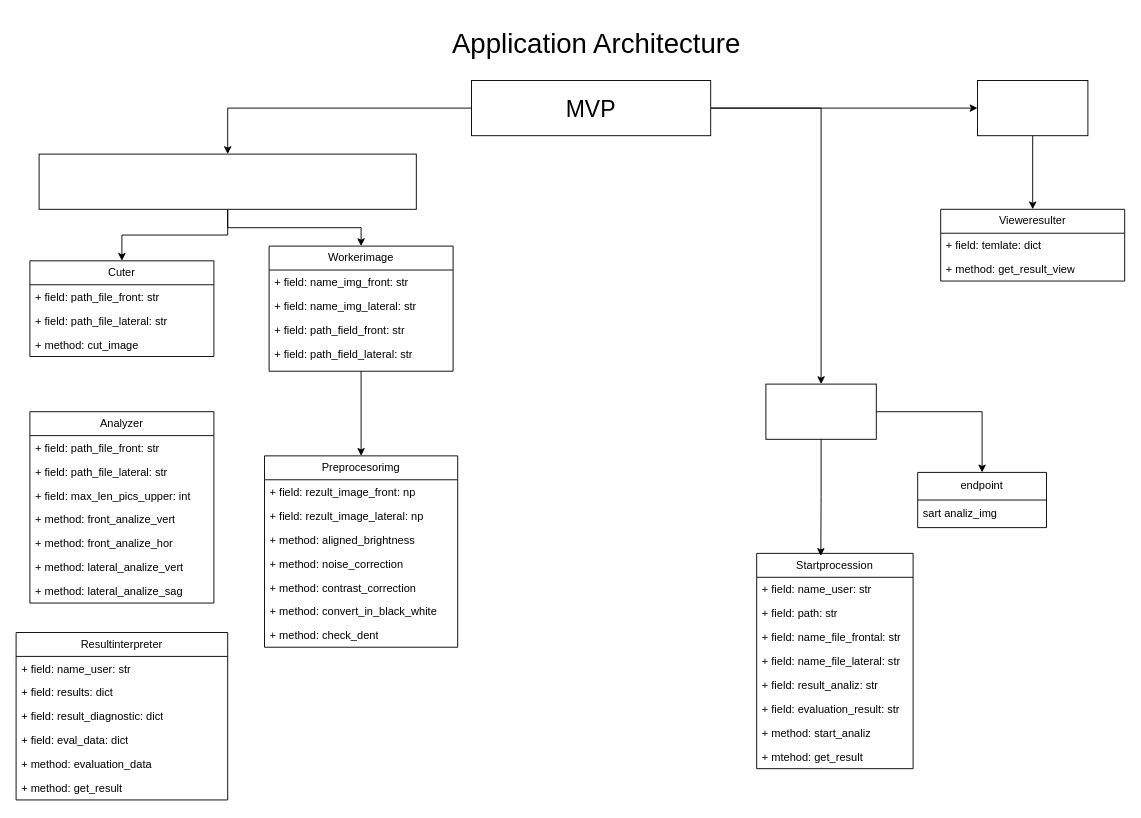
Image size: 1141x818. Some labels were removed from this diagram. The centre of each missing label's shape, as x and y in pixels:
"Modul" goes at point 227,181.
"Presenter" goes at point 820,411.
"Viewer" goes at point 1032,108.
